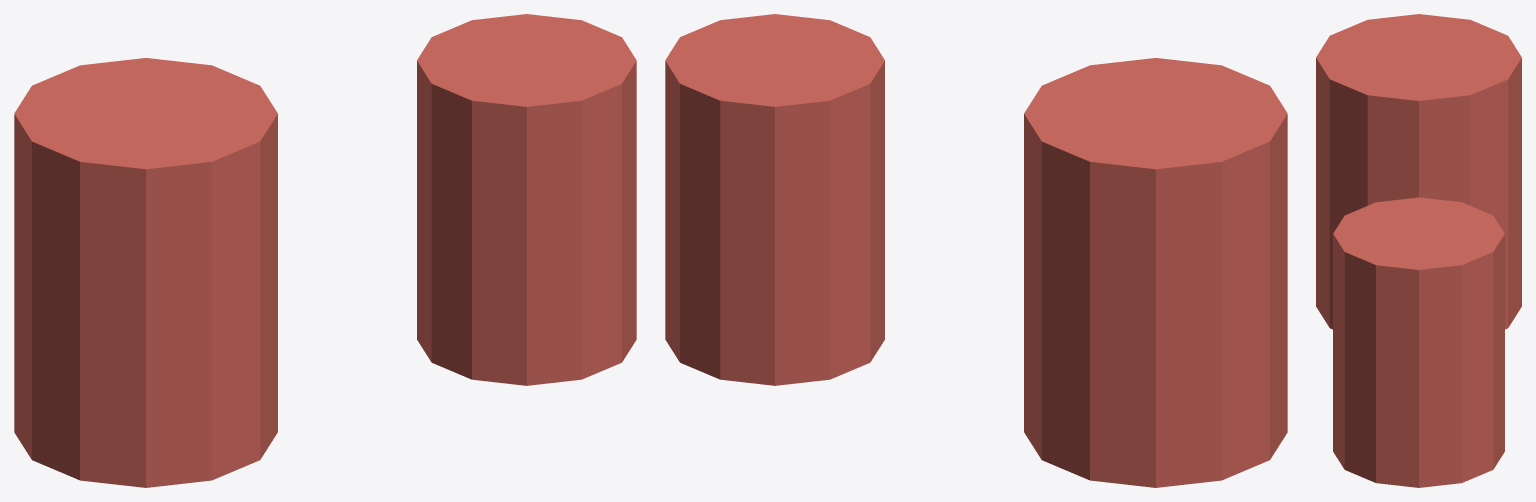
Rendered from harbor_buoy_set.glb.
3 renders of one model, left to right at view 1: azimuth 30°, elevation 25°; view 2: azimuth 150°, elevation 25°; view 3: azimuth 270°, elevation 25°, orthographic. The views are drawn at different scales.
Parts seen in each view (by area): view 1: buoy1, buoy2; view 2: buoy1, buoy2; view 3: buoy2, buoy1.
Part boxes in pixels (bbox=[...]): buoy1: bbox=[14, 58, 277, 487]; buoy2: bbox=[417, 14, 636, 385]; buoy1: bbox=[1024, 58, 1287, 487]; buoy2: bbox=[665, 14, 884, 385]; buoy2: bbox=[1333, 197, 1504, 487]; buoy1: bbox=[1316, 14, 1521, 329].
Size of the model in its own units: 1.55 by 0.8 by 0.5996.
